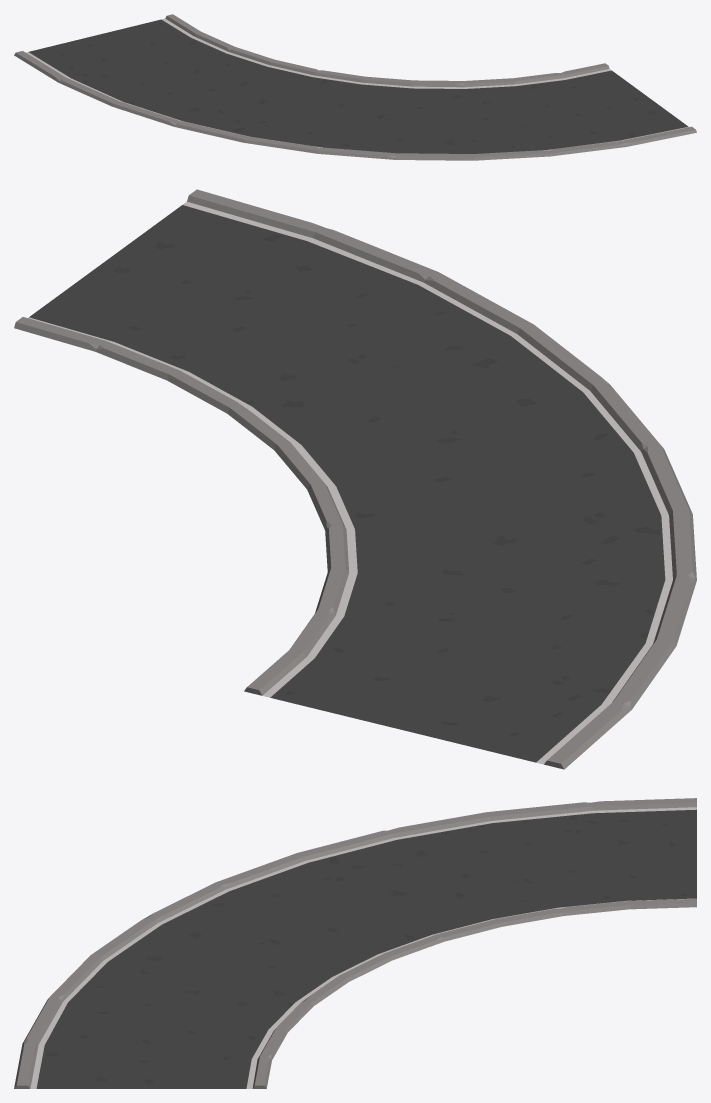
Rendered from SM_Env_Road_Circle_01.fbx.
The picture shows the model from 3 angles, top to bottom: view 1: azimuth 30°, elevation 25°; view 2: azimuth 150°, elevation 25°; view 3: azimuth 270°, elevation 25°; orthographic projection. The views are drawn at different scales.
Visible parts, largest first — view 1: SM_Env_Road_Circle_01; view 2: SM_Env_Road_Circle_01; view 3: SM_Env_Road_Circle_01.
Boxes of the visible parts, <box> form: SM_Env_Road_Circle_01: <box>14,14,696,160</box>; SM_Env_Road_Circle_01: <box>14,189,696,769</box>; SM_Env_Road_Circle_01: <box>14,798,696,1088</box>.
Bounding box in the file's own units: 1537 × 8.29 × 1537.
